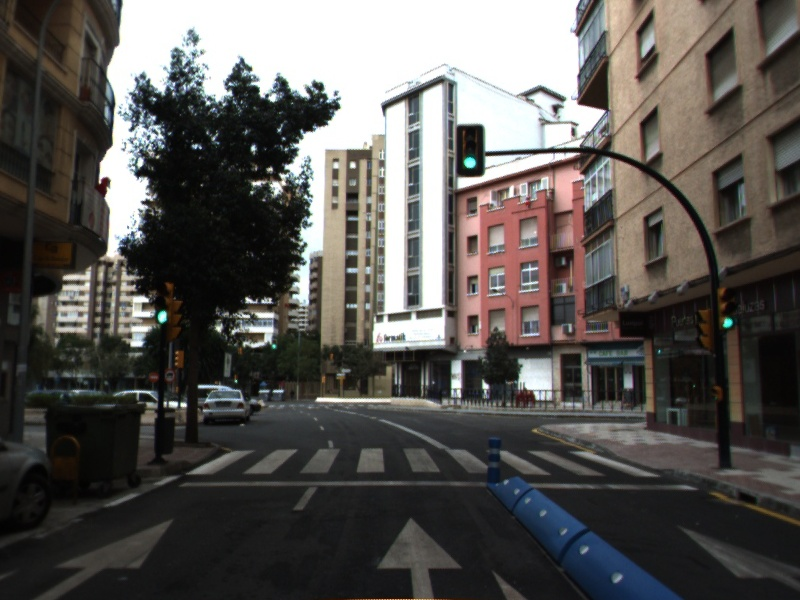STRAIGHT: (22, 514, 180, 600), (672, 519, 800, 592), (372, 512, 469, 600)
